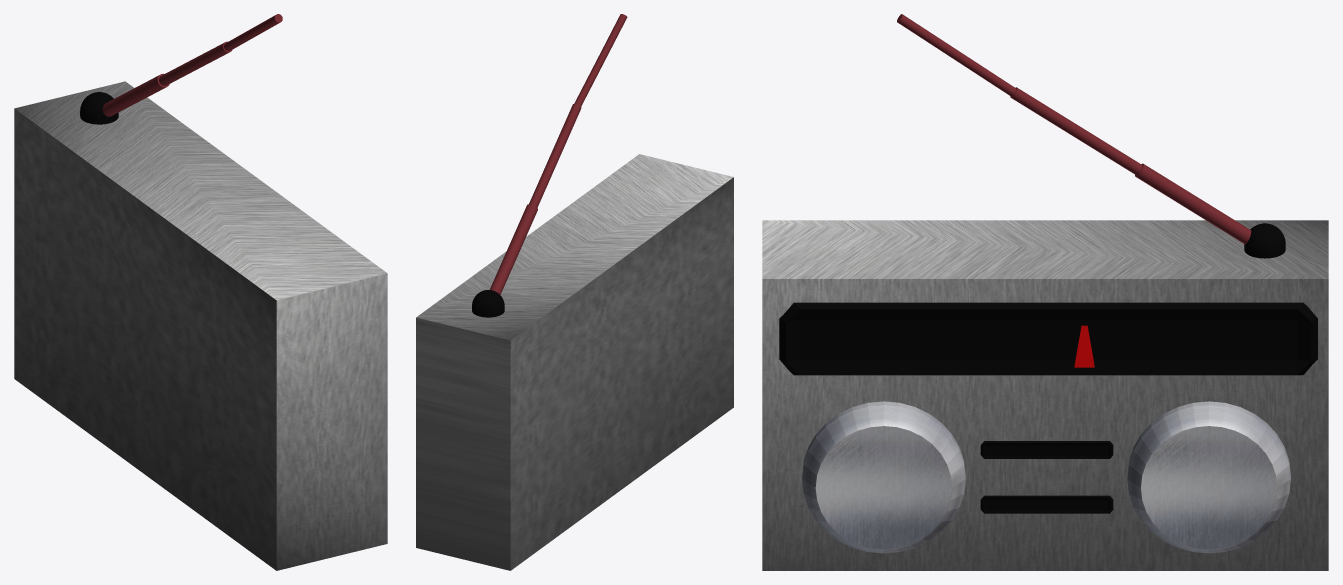
Rendered from radio.fbx.
3 views of the same model, side by side, from view 1: azimuth 30°, elevation 25°; view 2: azimuth 150°, elevation 25°; view 3: azimuth 270°, elevation 25° (orthographic). The views are drawn at different scales.
Visible parts, largest first — view 1: Cube, Cylinder.002, Sphere; view 2: Cube, Cylinder.002, Sphere; view 3: Cube, Cube.001, Cylinder, Cylinder.001, Cylinder.002, Cube.004, Cube.003, Sphere.
Boxes of the visible parts, left/top/right/bottom form: Cube: left=14, top=81, right=387, bottom=570; Cylinder.002: left=102, top=14, right=282, bottom=116; Sphere: left=80, top=92, right=118, bottom=124; Cube: left=416, top=154, right=733, bottom=570; Cylinder.002: left=489, top=14, right=627, bottom=294; Sphere: left=472, top=290, right=504, bottom=317; Cube: left=762, top=220, right=1328, bottom=570; Cube.001: left=779, top=302, right=1317, bottom=375; Cylinder: left=1127, top=401, right=1290, bottom=553; Cylinder.001: left=802, top=401, right=965, bottom=553; Cylinder.002: left=897, top=14, right=1251, bottom=244; Cube.004: left=980, top=495, right=1113, bottom=513; Cube.003: left=980, top=441, right=1113, bottom=458; Sphere: left=1244, top=223, right=1285, bottom=258.
Bounding box in the file's own units: 127 × 444 × 428.
5 materials, 2 textured.
